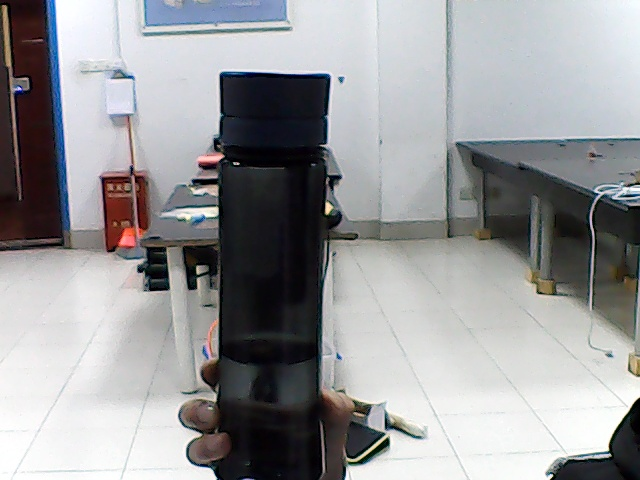cup: (241, 84, 314, 436)
